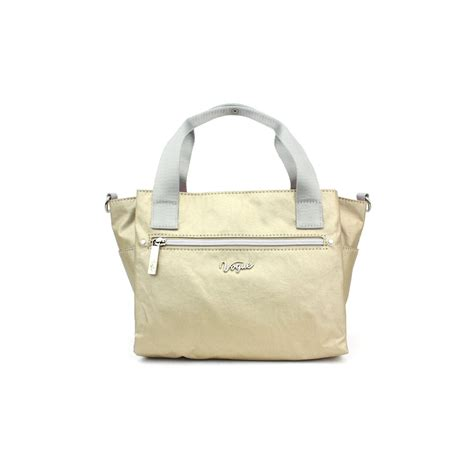nylon: (105, 188, 372, 363)
